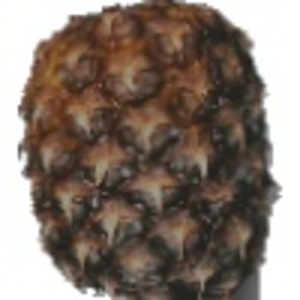abacaxi: (14, 2, 279, 292)
